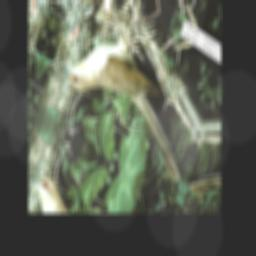Cuckoo: (51, 3, 204, 184)
